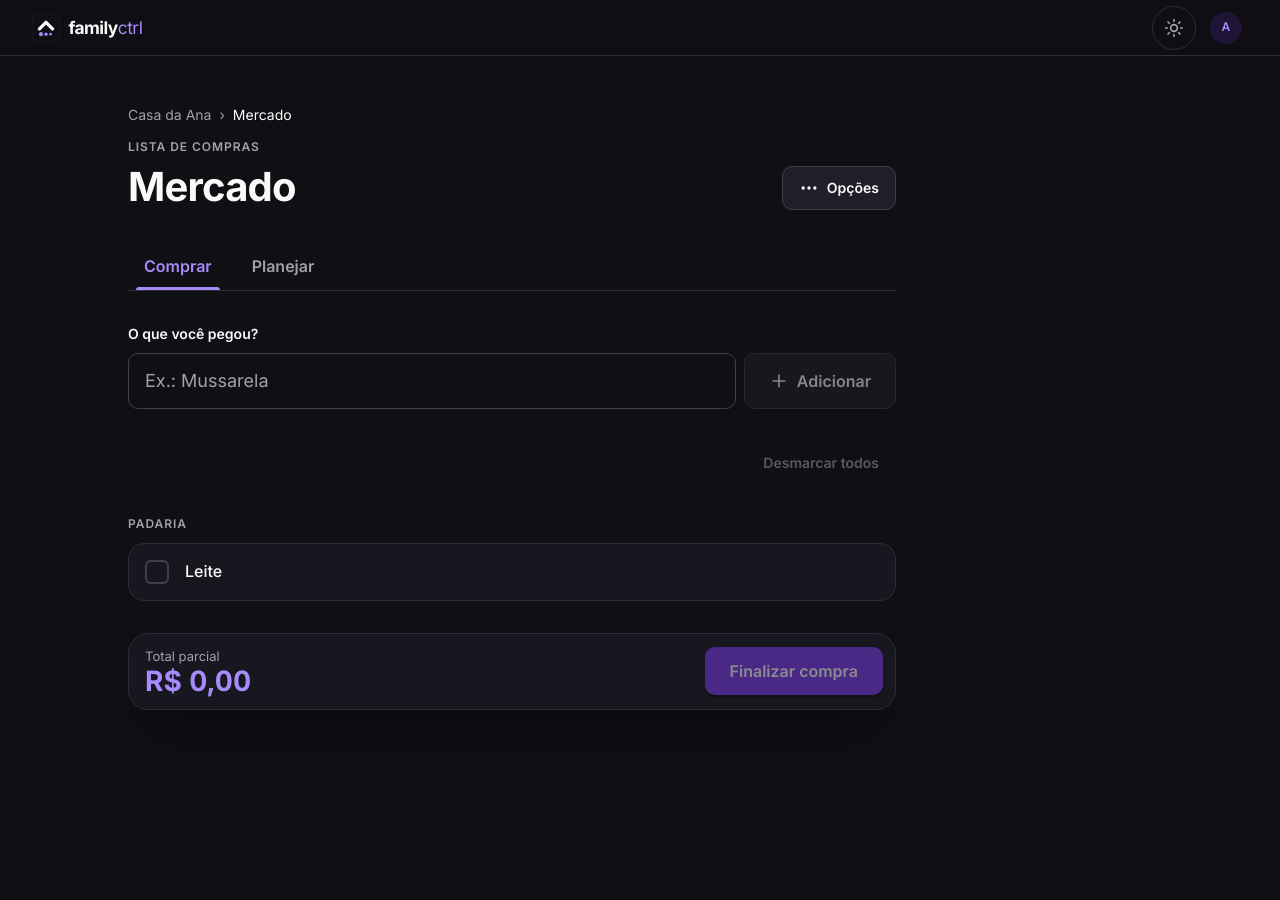
compra em dois aparelhos › não sobrescreve o item que outra pessoa marcou enquanto o formulário estava aberto
The width and height of the screenshot is (1280, 900).
Click the checkbox named "Pegar Leite" at (157, 572), box left=129, top=544, right=185, bottom=600
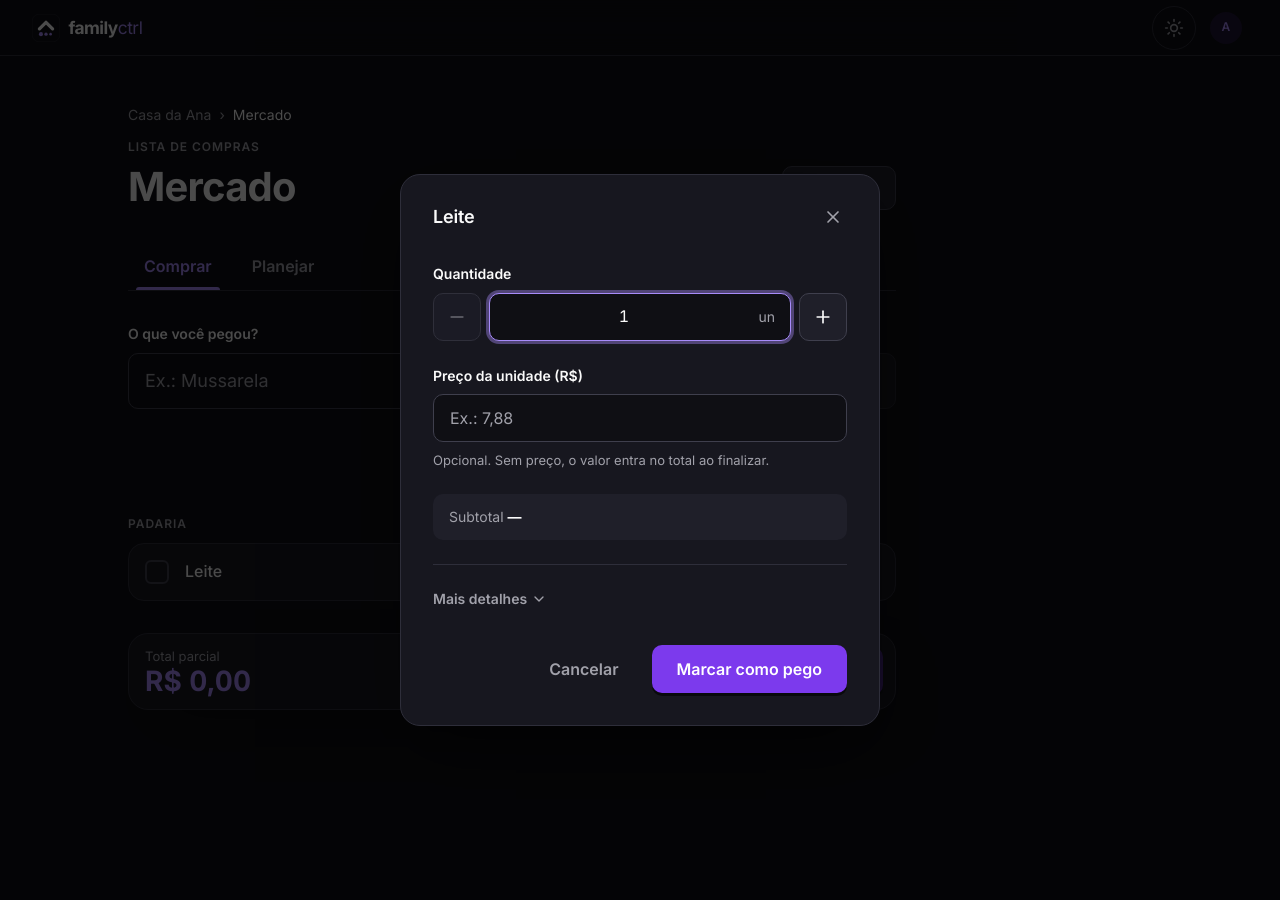
Type "9" into the field labelled "Preço da unidade (R$)" at (640, 418), box left=433, top=394, right=847, bottom=442
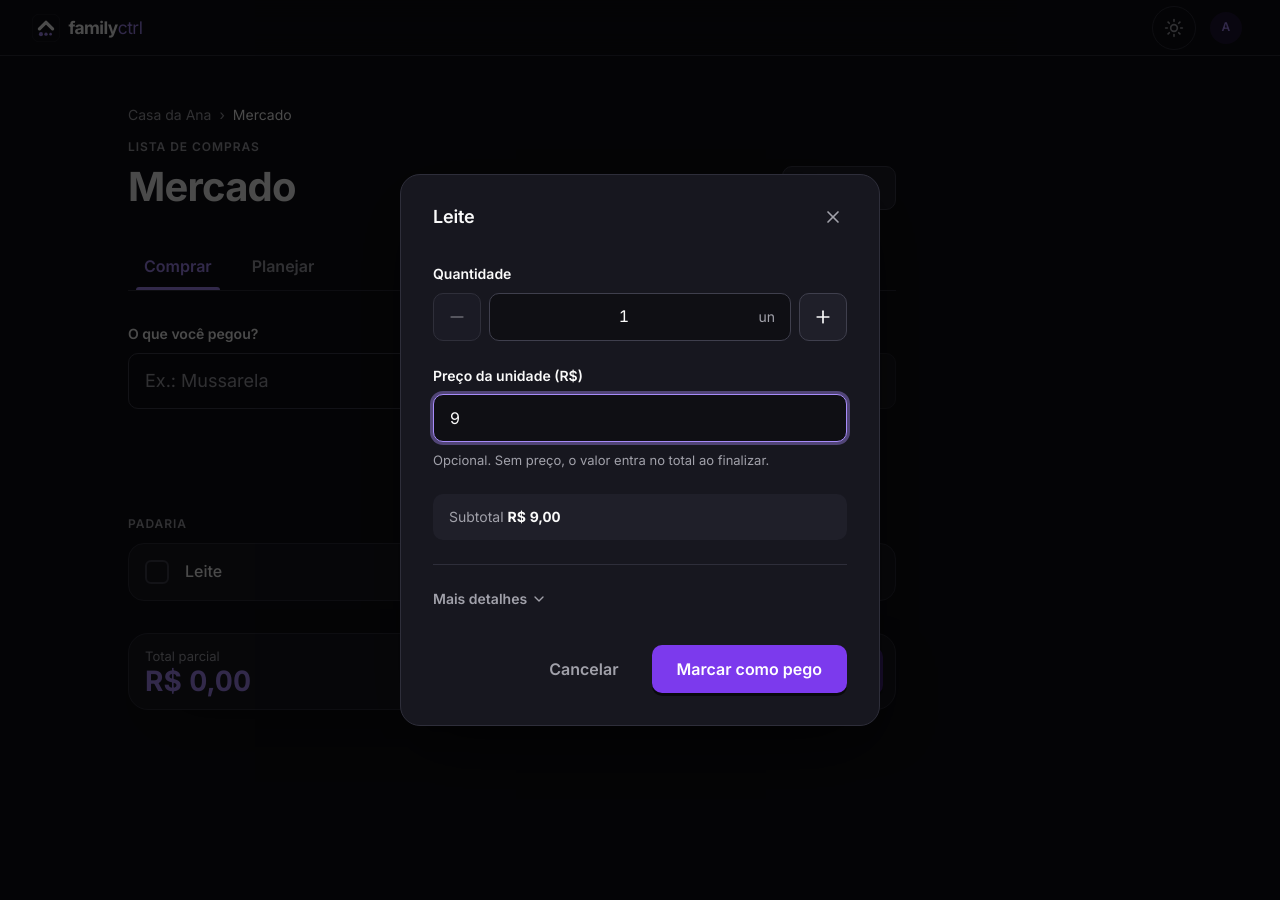
Click the button "Marcar como pego" at (749, 669), box left=652, top=645, right=847, bottom=693
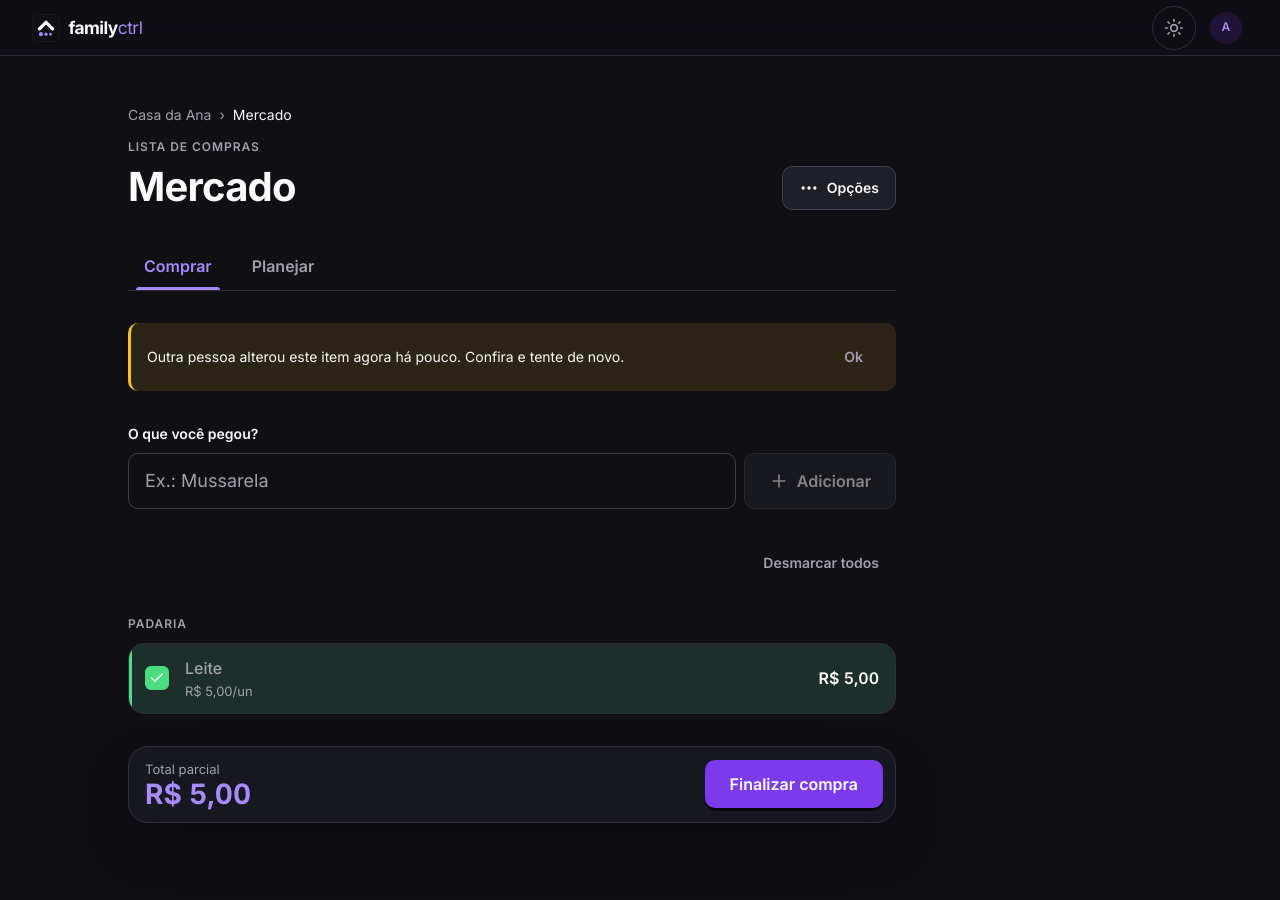
Check: the message shows "Outra pessoa alterou este item", box left=147, top=348, right=624, bottom=365
Check: the text "R$ 5,00" below "Total parcial" is shown, box left=145, top=777, right=251, bottom=811
